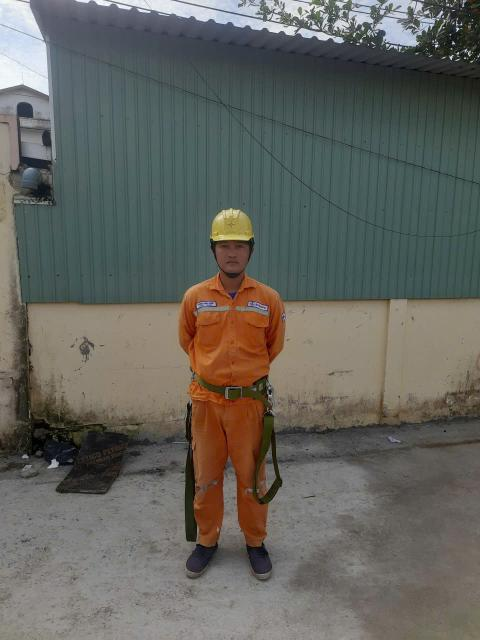harness: (186, 364, 279, 410)
helmet: (196, 202, 273, 262)
shoes: (180, 518, 228, 582), (238, 525, 283, 588)
